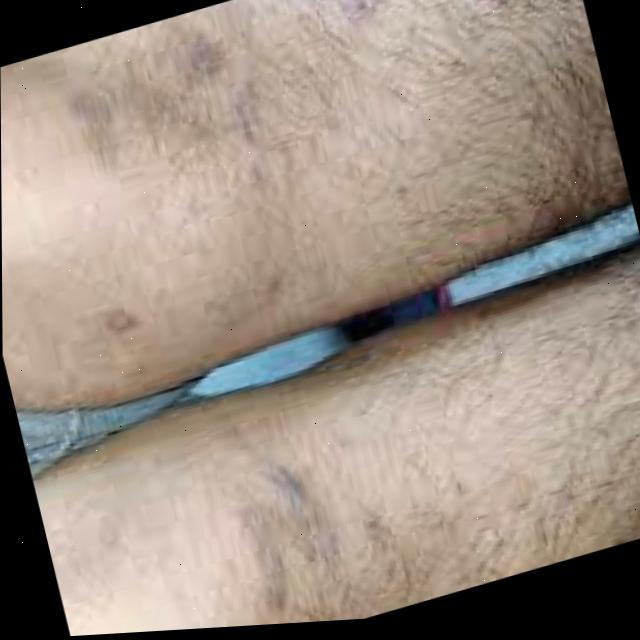Eczema: (57, 21, 278, 203), (225, 450, 343, 619)
